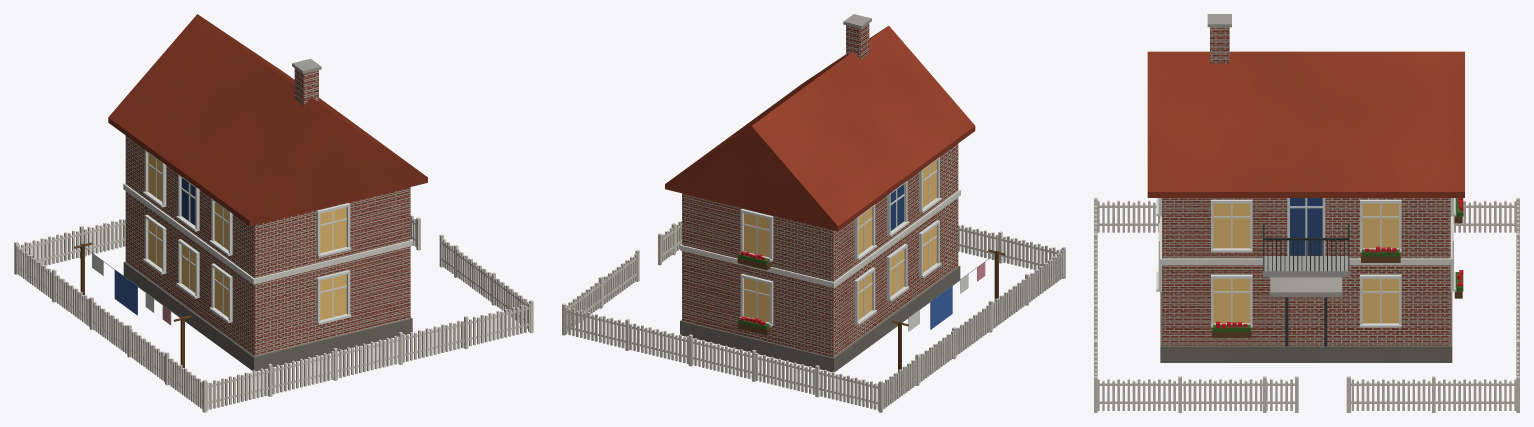
Rendered from dum_18_stare_2.glb.
3 renders of one model, left to right at view 1: azimuth 30°, elevation 25°; view 2: azimuth 150°, elevation 25°; view 3: azimuth 270°, elevation 25°, orthographic. The views are drawn at different scales.
Visible parts, largest first — view 1: dum, noc; view 2: dum, noc; view 3: dum, noc.
Boxes of the visible parts, x1,y1,x2,y2 form: dum: [14, 14, 533, 412]; noc: [148, 153, 346, 320]; dum: [562, 14, 1065, 412]; noc: [744, 160, 936, 322]; dum: [1094, 14, 1519, 412]; noc: [1213, 203, 1398, 323].
Size of the model in its own units: 11.79 by 9.18 by 11.79.
1 material, 1 textured.
